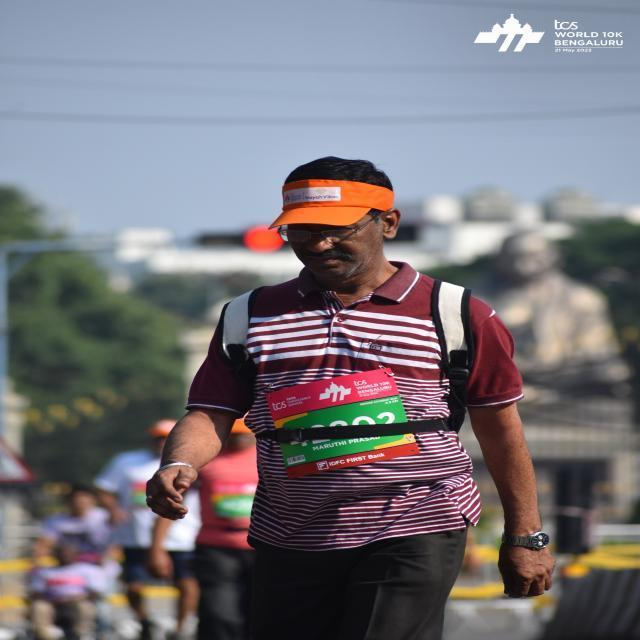dorsal: (262, 374, 420, 467)
